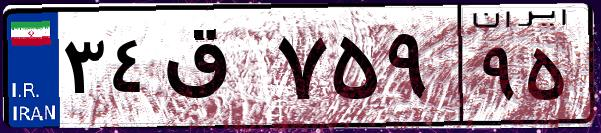3: (57, 26, 110, 100)
4: (110, 28, 158, 98)
5: (330, 28, 385, 110), (525, 38, 570, 115)
7: (270, 28, 330, 110)
9: (385, 28, 445, 110), (475, 38, 525, 113)
ق: (158, 20, 270, 120)
